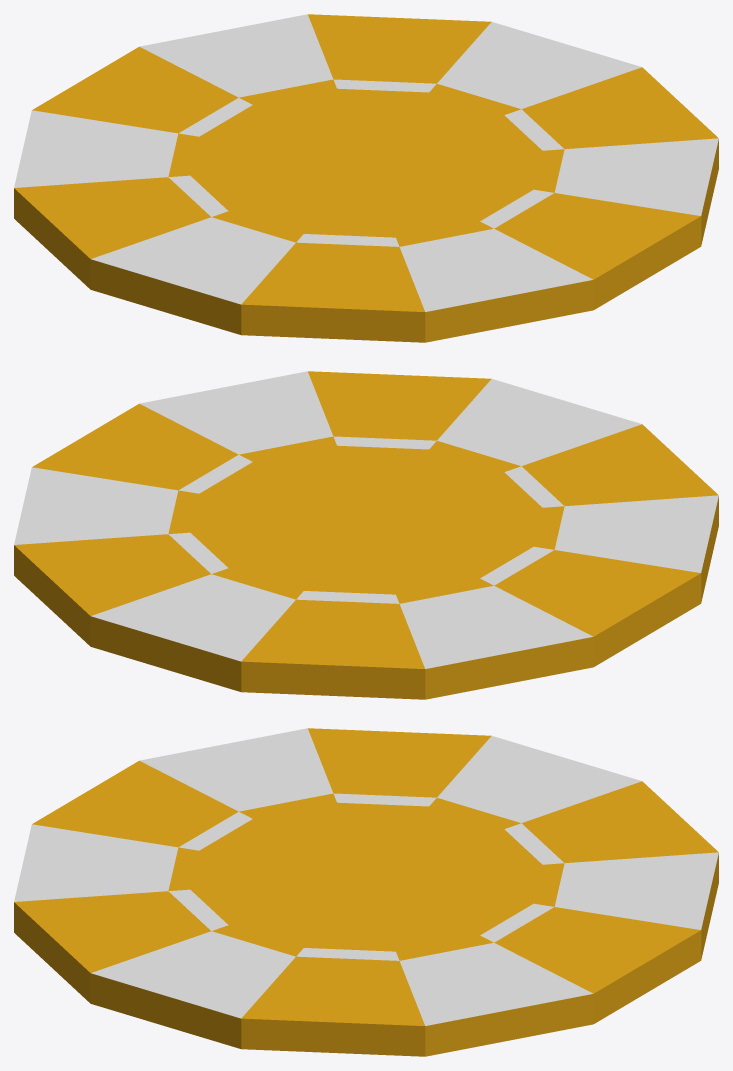
Rendered from Poker Chips - Y.glb.
The picture shows the model from 3 angles, top to bottom: view 1: azimuth 30°, elevation 25°; view 2: azimuth 150°, elevation 25°; view 3: azimuth 270°, elevation 25°; orthographic projection.
Parts seen in each view (by area): view 1: Circle; view 2: Circle; view 3: Circle.
Boxes of the visible parts, x1,y1,x2,y2 form: Circle: (14,14,718,342); Circle: (14,371,718,699); Circle: (14,728,718,1056).
Size of the model in its own units: 0.3107 by 0.0149 by 0.3107.
